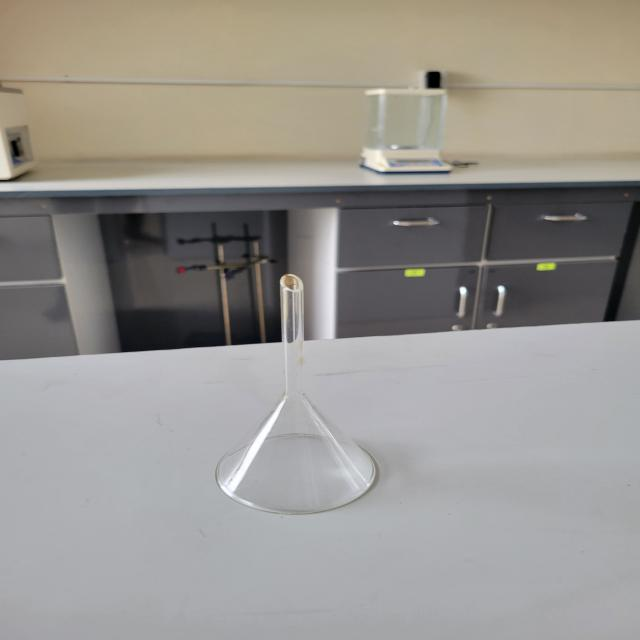Funnel: (166, 256, 404, 551)
